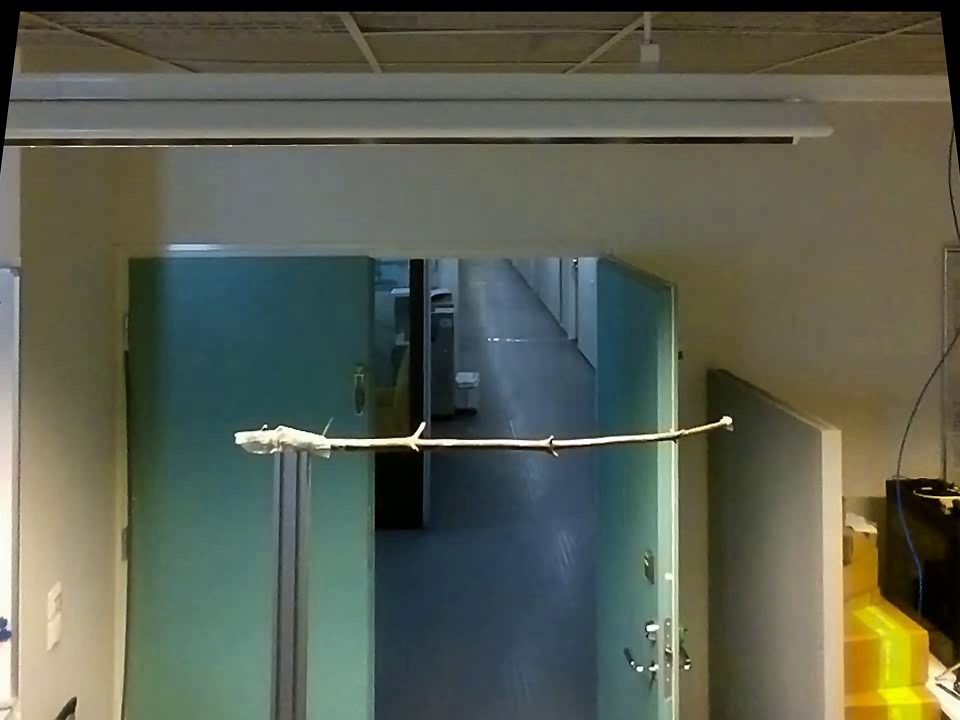aluminum_frame: (265, 456, 309, 717)
branch: (341, 417, 717, 462)
